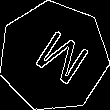M_SW: (21, 23, 87, 90)
